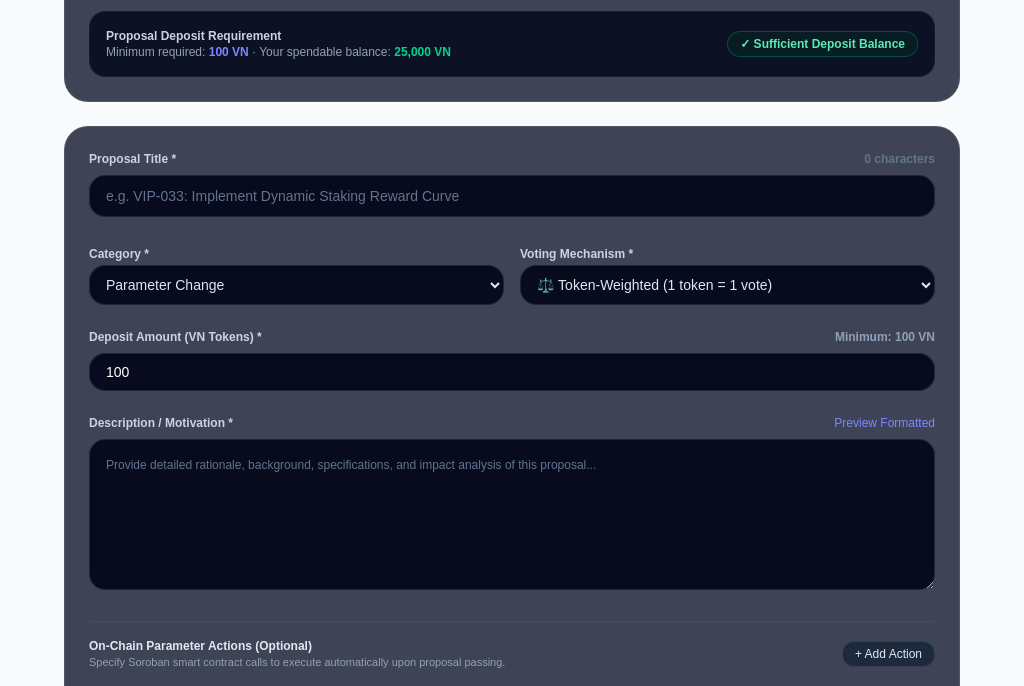
Test: ProposalCreator Component › renders creation form and allows adding on-chain parameter actions
Expected: the text "Proposal Deposit Requirement" is shown, [106,29,281,43]
Click the button "+ Add Action" at coordinates (888, 654), box [842,641,935,667]
(page scrolled)
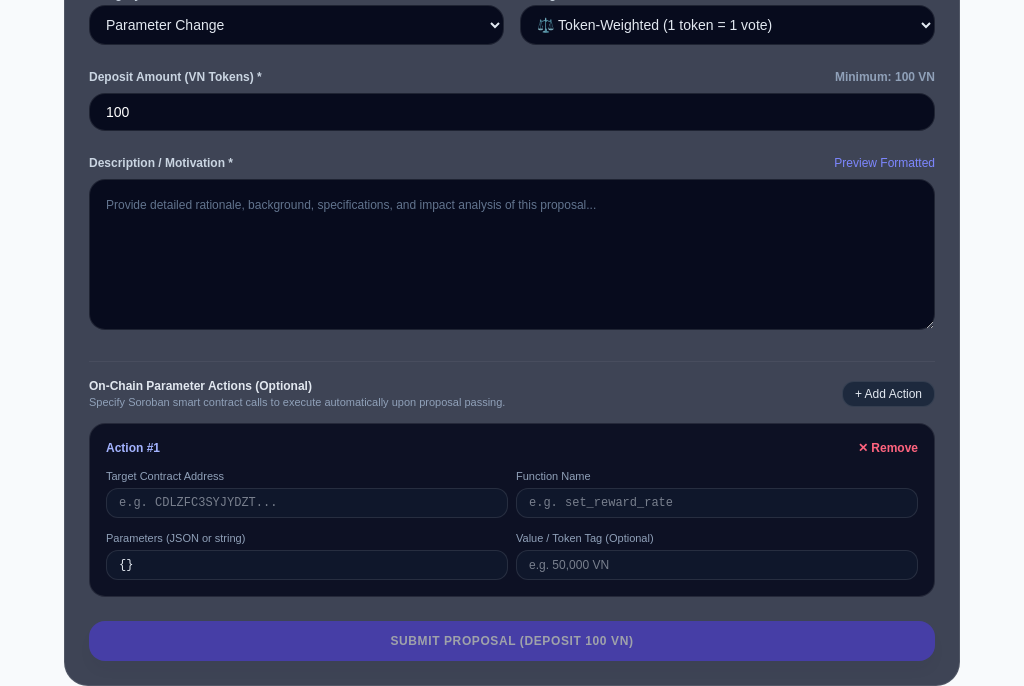
Result: the text "Action #1" is shown at [106,440,160,456]
Click the button "✕ Remove" at coordinates (888, 448), box [858,440,918,456]
(page scrolled)
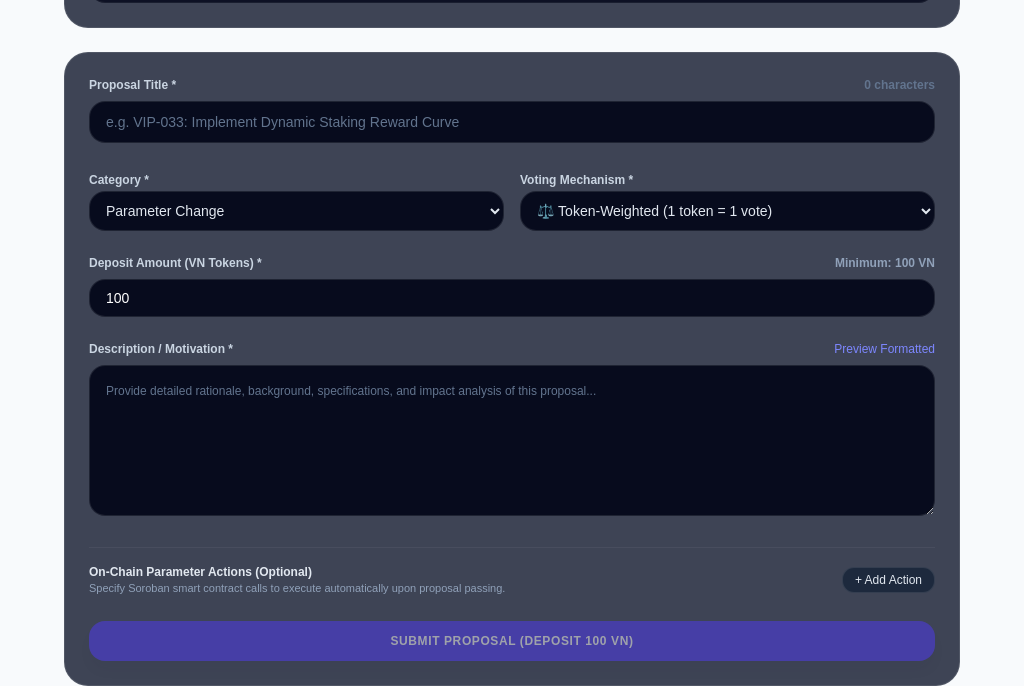
Result: the text "Action #1" is gone
